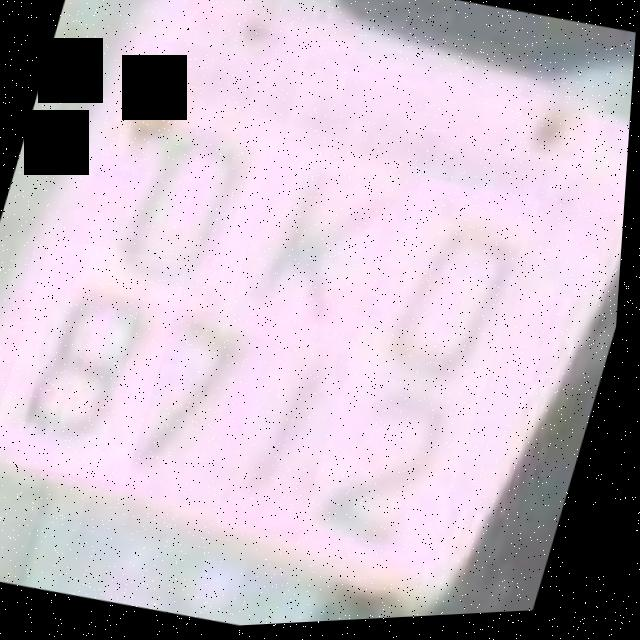2: (301, 346, 496, 587)
8: (0, 233, 195, 492)
K: (206, 133, 406, 363)
O: (76, 89, 288, 324), (368, 176, 545, 402)
